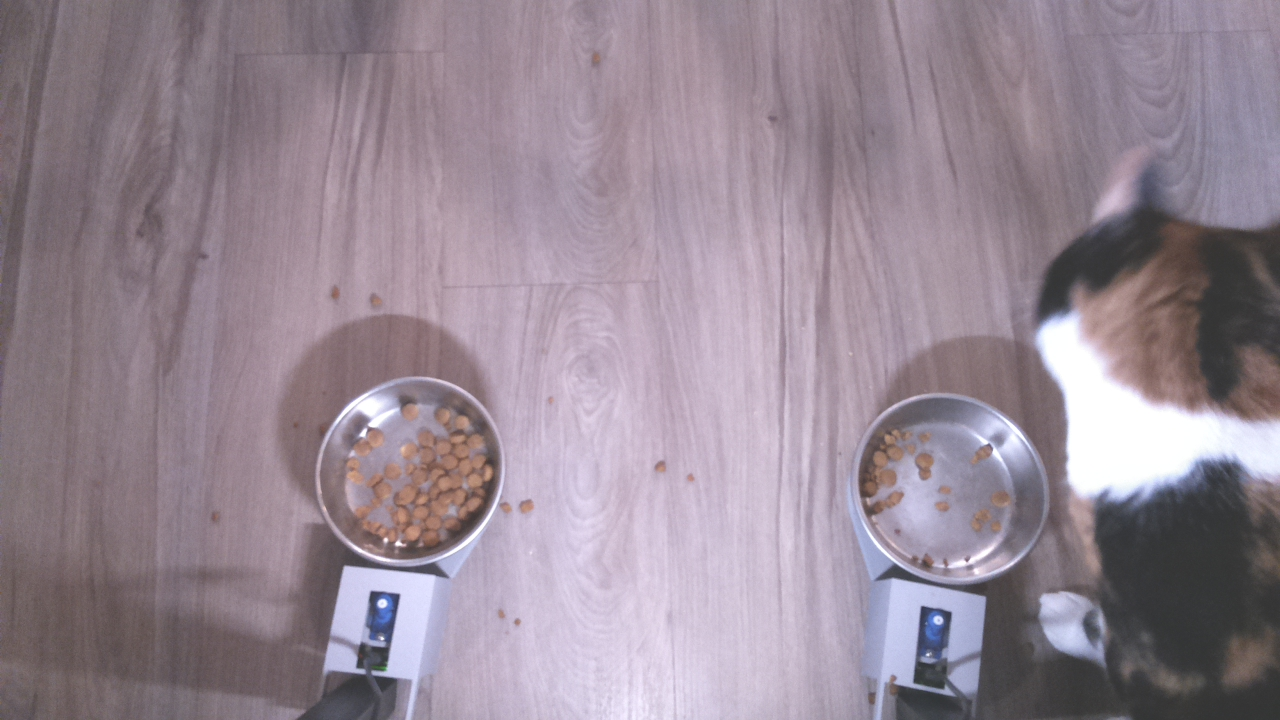bella: (1019, 136, 1280, 435)
open_bowl: (845, 392, 1058, 585), (308, 370, 507, 570)
